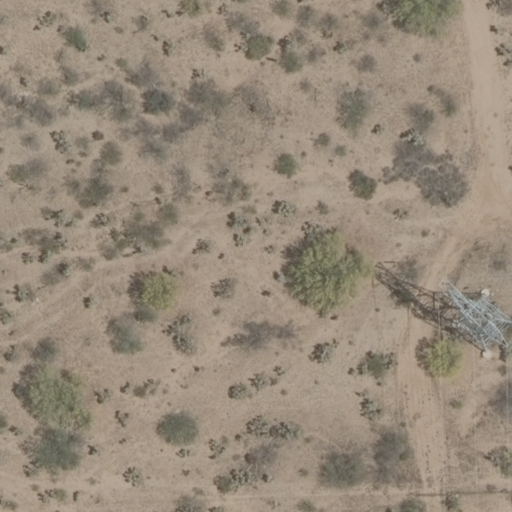TT: (427, 271, 512, 363)
